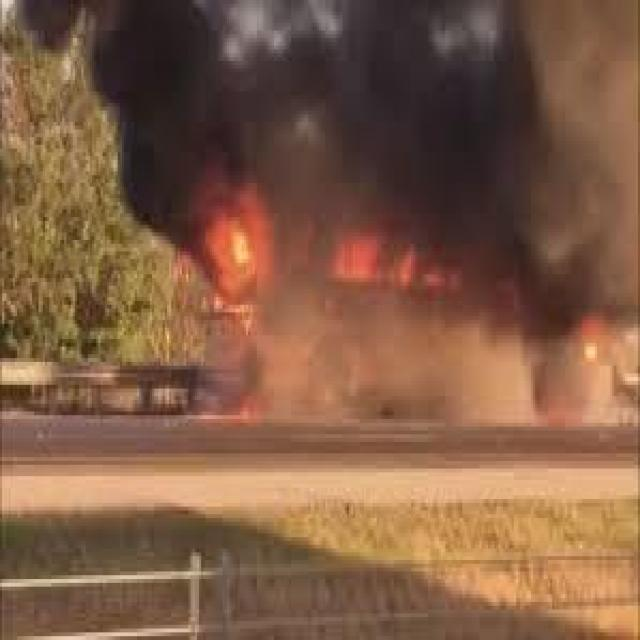fire: (177, 152, 498, 314)
smoke: (90, 1, 622, 230)
